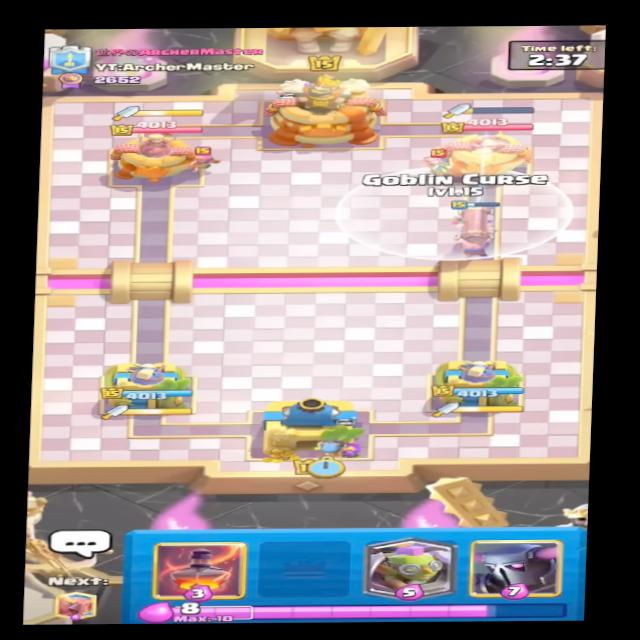archer: (181, 141, 228, 168), (421, 146, 460, 175)
